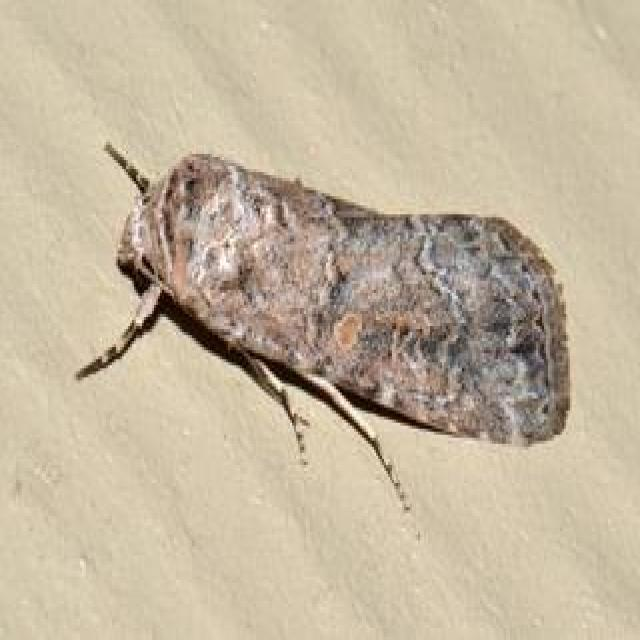BeetArmyWorm-Adult-: (79, 119, 587, 494)
